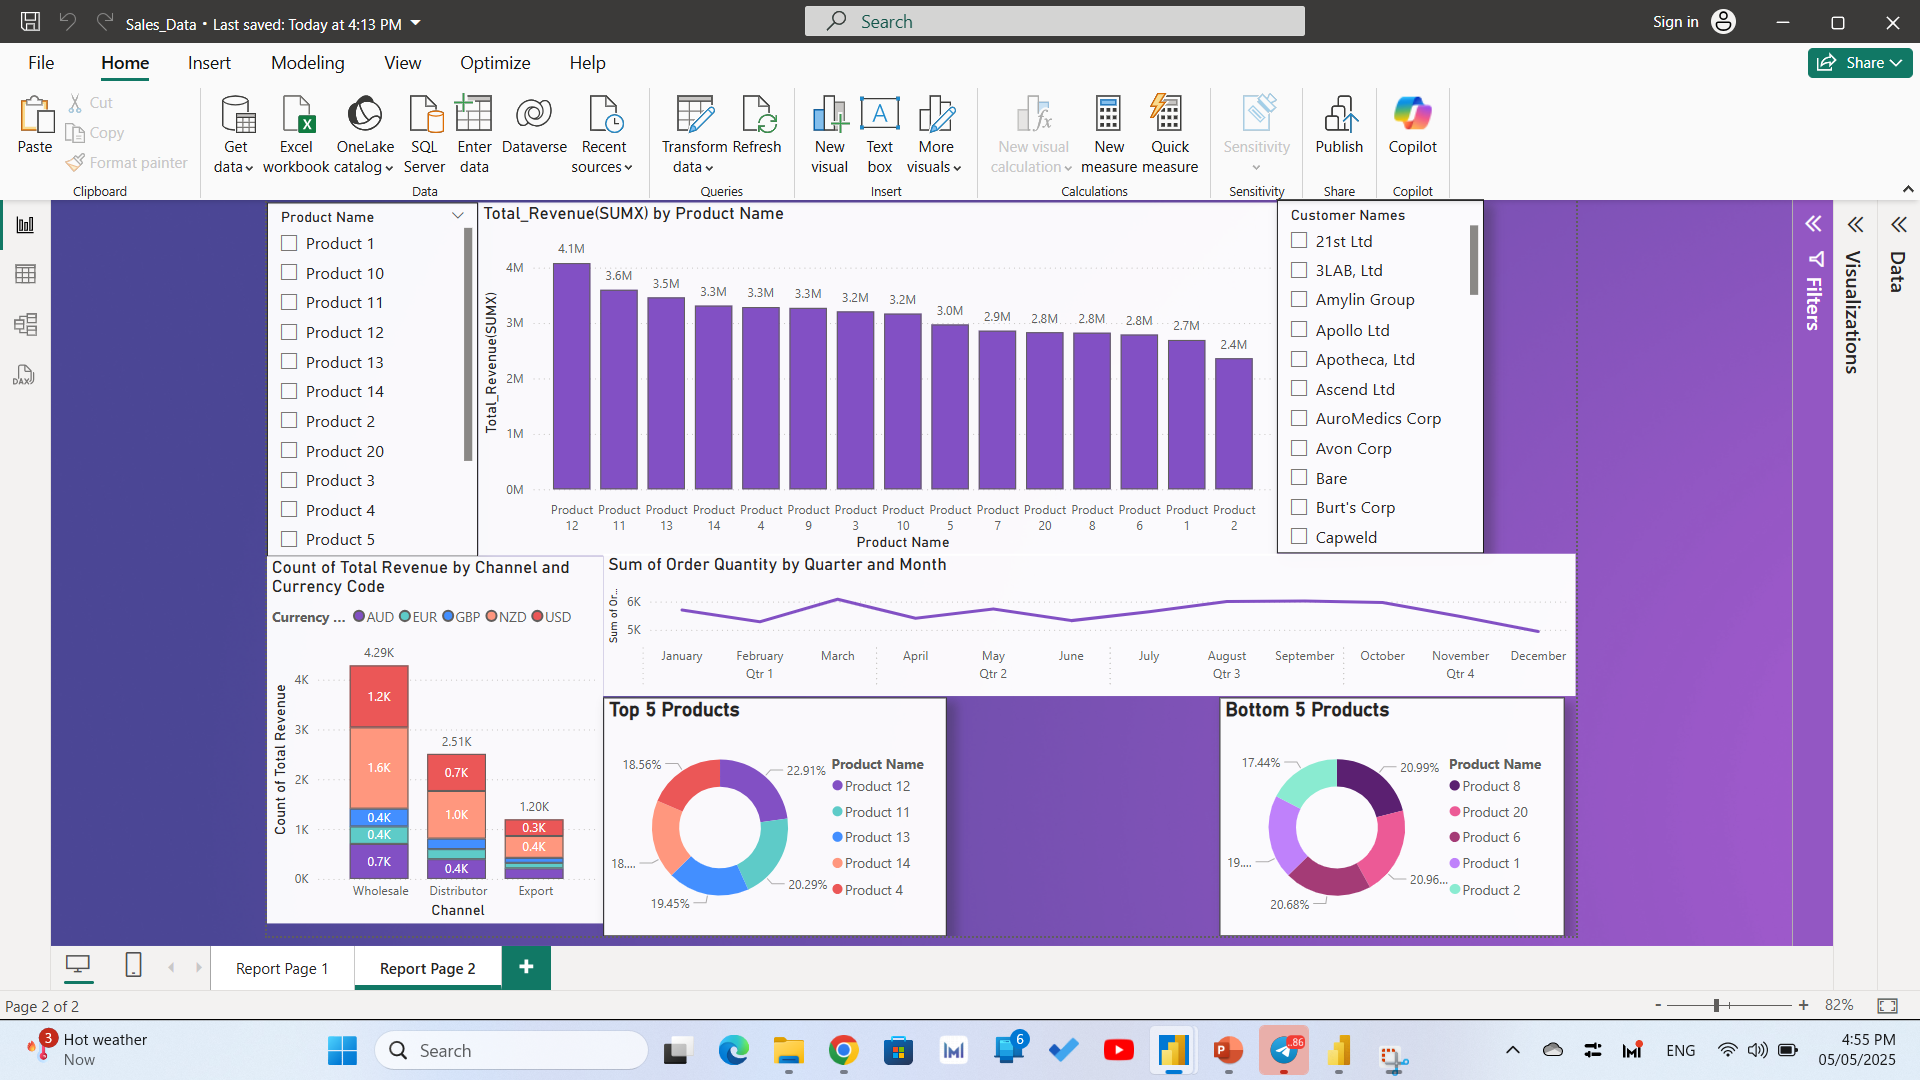

Layout of this report page (visuals, bound fields, positions):
{"tool":"powerbi","page":{"name":"Report Page 2","canvas":[1280,720],"ordinal":1},"visuals":[{"type":"slicer","fields":{"Values":["Products_Data.Product Name"]},"box":[0,2.4,206.7,346.1],"z":2},{"type":"columnChart","fields":{"Y":["CountNonNull(Sales_Data.Total Revenue)"],"Category":["Sales_Data.Channel"],"Series":["Sales_Data.Currency Code"]},"box":[0,348.5,328.9,359.5],"z":3},{"type":"clusteredColumnChart","fields":{"Category":["Products_Data.Product Name"],"Y":["Sales_Data.Total_Revenue(SUMX)"]},"box":[206.8,2.8,781.8,345.6],"z":4},{"type":"donutChart","title":"Top 5  Products","fields":{"Y":["Sum(Sales_Data.Profit)"],"Category":["Products_Data.Product Name"]},"box":[328.9,486.7,336.3,233.6],"z":5},{"type":"donutChart","title":"Bottom 5  Products","fields":{"Y":["Sum(Sales_Data.Profit)"],"Category":["Products_Data.Product Name"]},"box":[931.8,486.7,337.5,233.6],"z":6},{"type":"slicer","fields":{"Values":["Customer_Data.Customer Names"]},"box":[988.5,0,202.5,345.6],"z":7},{"type":"lineChart","fields":{"Y":["Sum(Sales_Data.Order Quantity)"],"Category":["Sales_Data.OrderDate.Variation.Date Hierarchy.Quarter","Sales_Data.OrderDate.Variation.Date Hierarchy.Month"]},"box":[328.9,346.1,951.4,139.4],"z":8}]}

Visuals, with their boxes on the page's 1280x720 design canvas (x1, y1, x2, y2). These are canvas units, not pixel positions in the 1920x1080 screenshot, which may show the page scaled, cropped or inside an application window:
slicer - Products_Data.Product Name: bbox=[0, 2, 207, 348]
columnChart - CountNonNull(Sales_Data.Total Revenue) x Sales_Data.Channel: bbox=[0, 348, 329, 708]
clusteredColumnChart - Products_Data.Product Name x Sales_Data.Total_Revenue(SUMX): bbox=[207, 3, 989, 348]
"Top 5  Products" donutChart: bbox=[329, 487, 665, 720]
"Bottom 5  Products" donutChart: bbox=[932, 487, 1269, 720]
slicer - Customer_Data.Customer Names: bbox=[988, 0, 1191, 346]
lineChart - Sum(Sales_Data.Order Quantity) x Sales_Data.OrderDate.Variation.Date Hierarchy.Quarter: bbox=[329, 346, 1280, 486]
